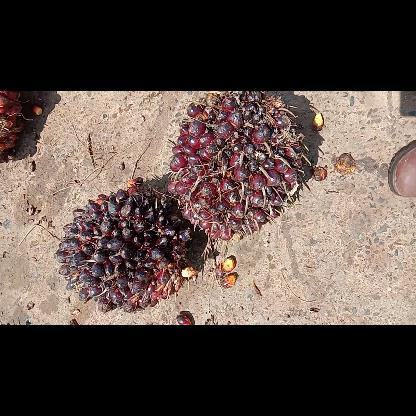Kurang masak: (165, 91, 313, 243), (52, 175, 200, 315)
